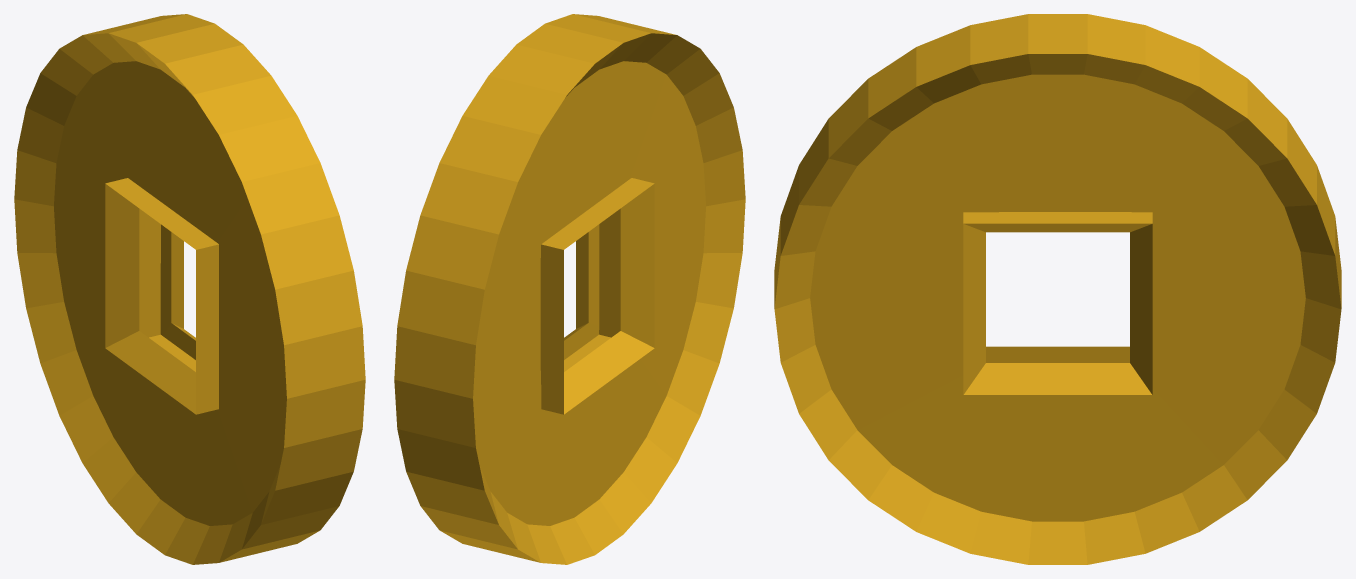
Rendered from metal.fbx.
The picture shows the model from 3 angles, left to right: view 1: azimuth 30°, elevation 25°; view 2: azimuth 150°, elevation 25°; view 3: azimuth 270°, elevation 25°; orthographic projection. The views are drawn at different scales.
Visible parts, largest first — view 1: 柱体.001; view 2: 柱体.001; view 3: 柱体.001.
Part boxes in pixels (x1,y1,x2,y2): 柱体.001: [14, 14, 365, 564]; 柱体.001: [394, 14, 745, 564]; 柱体.001: [774, 14, 1341, 564].
Bounding box in the file's own units: 99.76 × 595 × 599.
